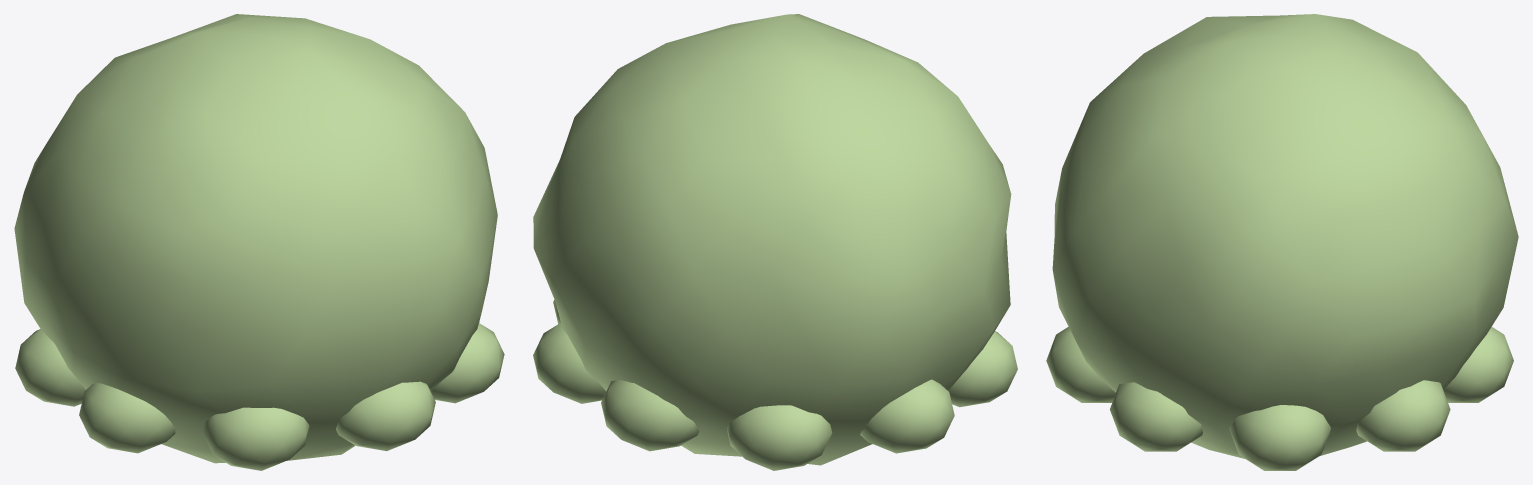
The model's file is Pistachio_scoop.fbx.
3 renders of one model, left to right at view 1: azimuth 30°, elevation 25°; view 2: azimuth 150°, elevation 25°; view 3: azimuth 270°, elevation 25°, orthographic.
Parts seen in each view (by area): view 1: Toon_Pistachio_scoop Pistachio scoop.001, Toon_Pistachio_scoop Ruffled scoop edge.015, Toon_Pistachio_scoop Ruffled scoop edge.016, Toon_Pistachio_scoop Ruffled scoop edge.014, Toon_Pistachio_scoop Ruffled scoop edge.013, Toon_Pistachio_scoop Ruffled scoop edge.017; view 2: Toon_Pistachio_scoop Pistachio scoop.001, Toon_Pistachio_scoop Ruffled scoop edge.012, Toon_Pistachio_scoop Ruffled scoop edge.011, Toon_Pistachio_scoop Ruffled scoop edge.013, Toon_Pistachio_scoop Ruffled scoop edge.010, Toon_Pistachio_scoop Ruffled scoop edge.014; view 3: Toon_Pistachio_scoop Pistachio scoop.001, Toon_Pistachio_scoop Ruffled scoop edge.009, Toon_Pistachio_scoop Ruffled scoop edge.010, Toon_Pistachio_scoop Ruffled scoop edge.017, Toon_Pistachio_scoop Ruffled scoop edge.011, Toon_Pistachio_scoop Ruffled scoop edge.016.
Part boxes in pixels (x1,y1,x2,y2): Toon_Pistachio_scoop Pistachio scoop.001: (14, 14, 497, 463); Toon_Pistachio_scoop Ruffled scoop edge.015: (202, 407, 309, 470); Toon_Pistachio_scoop Ruffled scoop edge.016: (336, 381, 435, 451); Toon_Pistachio_scoop Ruffled scoop edge.014: (79, 382, 175, 453); Toon_Pistachio_scoop Ruffled scoop edge.013: (15, 329, 85, 406); Toon_Pistachio_scoop Ruffled scoop edge.017: (431, 323, 504, 403); Toon_Pistachio_scoop Pistachio scoop.001: (533, 14, 1011, 465); Toon_Pistachio_scoop Ruffled scoop edge.012: (727, 405, 832, 470); Toon_Pistachio_scoop Ruffled scoop edge.011: (601, 379, 699, 451); Toon_Pistachio_scoop Ruffled scoop edge.013: (860, 379, 954, 453); Toon_Pistachio_scoop Ruffled scoop edge.010: (533, 323, 606, 403); Toon_Pistachio_scoop Ruffled scoop edge.014: (948, 331, 1017, 407); Toon_Pistachio_scoop Pistachio scoop.001: (1052, 14, 1518, 458); Toon_Pistachio_scoop Ruffled scoop edge.009: (1229, 405, 1330, 470); Toon_Pistachio_scoop Ruffled scoop edge.010: (1356, 380, 1450, 451); Toon_Pistachio_scoop Ruffled scoop edge.017: (1110, 382, 1202, 451); Toon_Pistachio_scoop Ruffled scoop edge.011: (1443, 327, 1513, 402); Toon_Pistachio_scoop Ruffled scoop edge.016: (1046, 327, 1115, 402).
Size of the model in its own units: 10.56 by 9.6 by 10.18.
